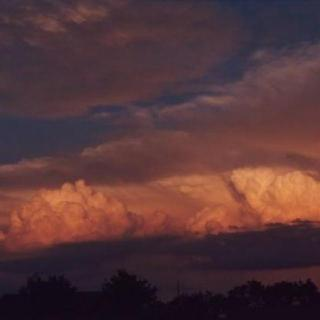Cumulus: (0, 2, 320, 286)
